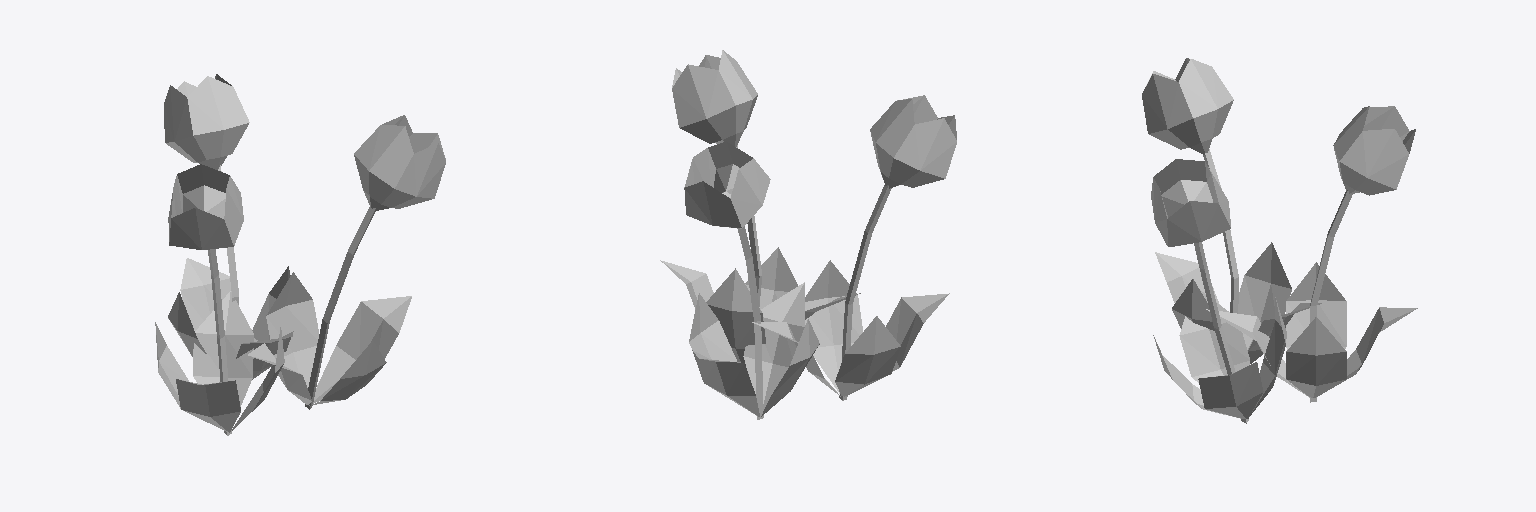
File: roses_red.obj
3 views of the same model, side by side, from view 1: azimuth 30°, elevation 25°; view 2: azimuth 150°, elevation 25°; view 3: azimuth 270°, elevation 25° (orthographic).
Visible parts, largest first — view 1: roses; view 2: roses; view 3: roses.
Boxes of the visible parts, x1=… form: roses: x1=155, y1=74, x2=445, y2=435; roses: x1=660, y1=50, x2=956, y2=419; roses: x1=1142, y1=58, x2=1417, y2=423.
Bounding box in the file's own units: 0.7085 × 0.736 × 0.619.